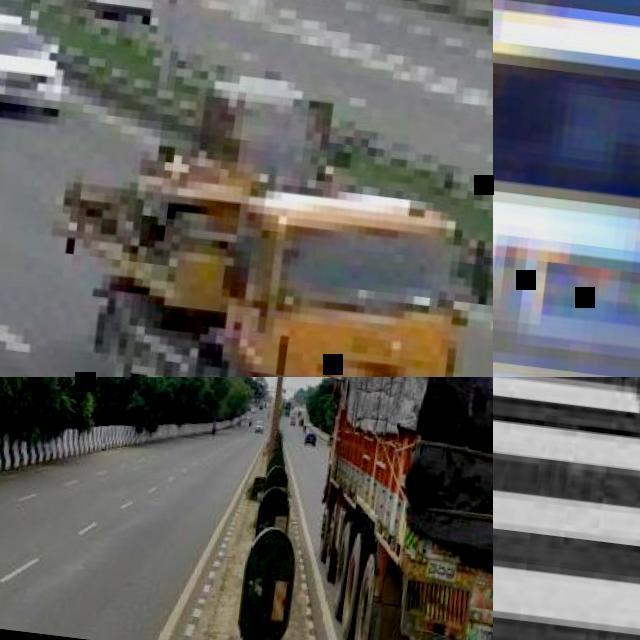car: (398, 441, 490, 573)
